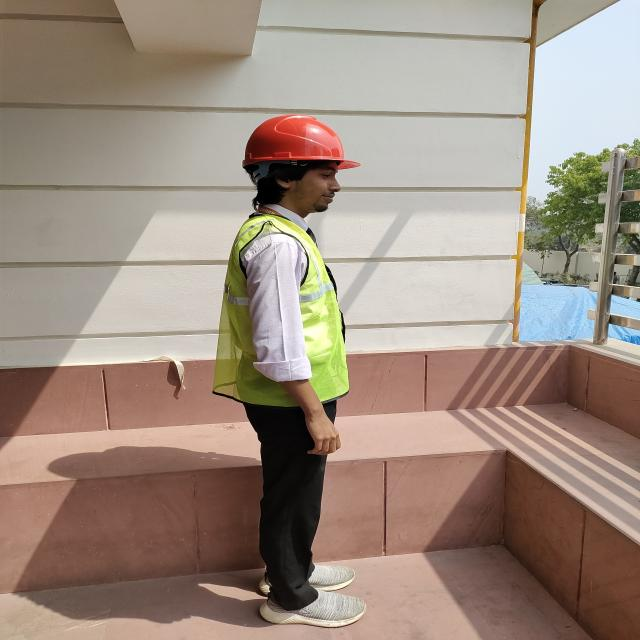safe: (212, 114, 361, 627)
